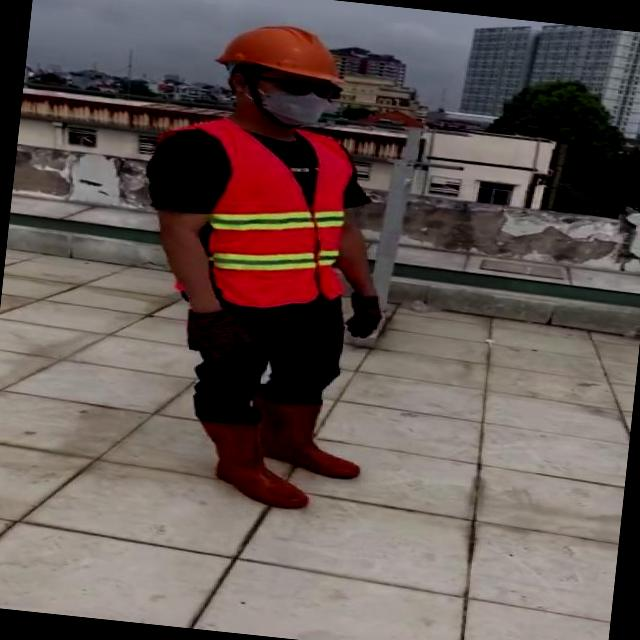boots: (194, 416, 316, 510), (247, 396, 366, 482)
helmet: (212, 15, 354, 83)
vest: (160, 116, 361, 313)
